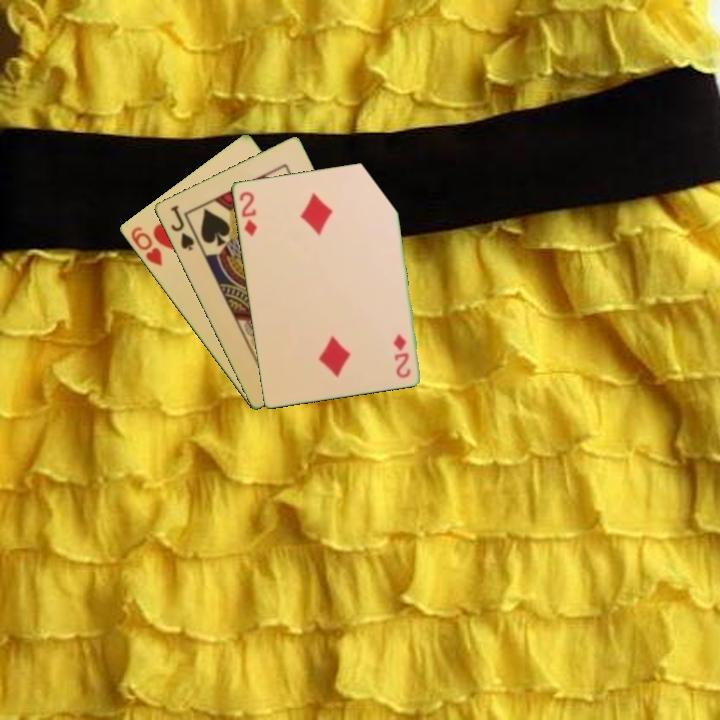2d: (236, 188, 260, 239), (390, 330, 413, 381)
6h: (127, 223, 165, 269)
Js: (166, 201, 197, 254)
